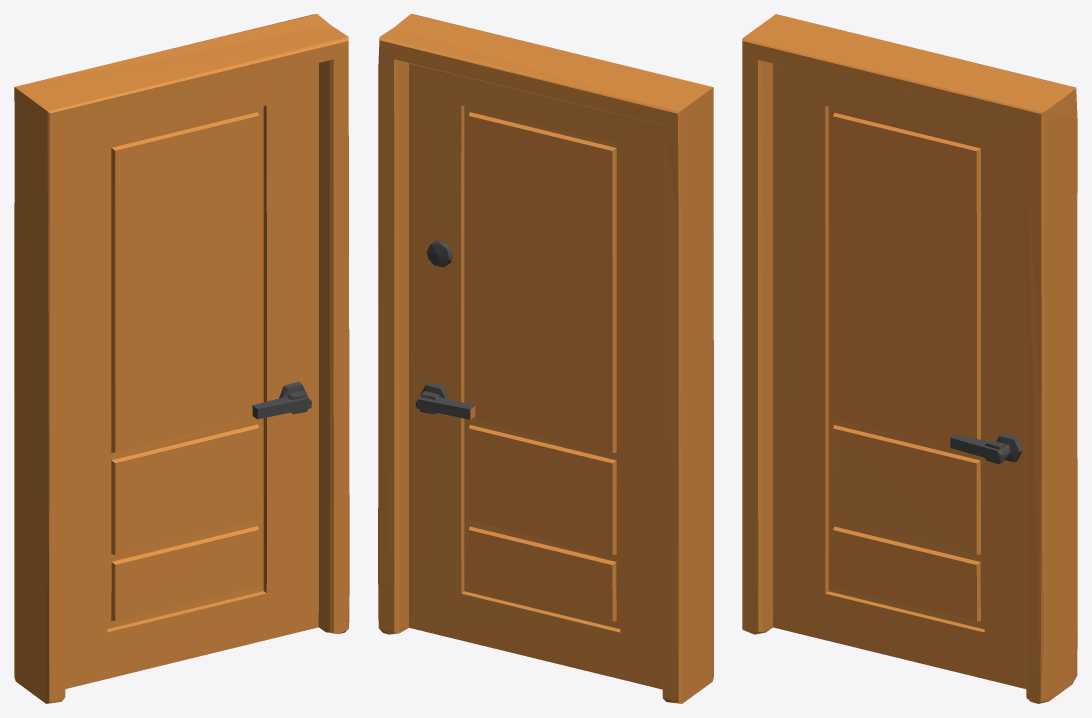
File: Puerta.fbx
3 renders of one model, left to right at view 1: azimuth 30°, elevation 25°; view 2: azimuth 150°, elevation 25°; view 3: azimuth 330°, elevation 25°, orthographic.
Parts seen in each view (by area): view 1: dff8d2154b19735cffffe9d4fa111566; view 2: dff8d2154b19735cffffe9d4fa111566; view 3: dff8d2154b19735cffffe9d4fa111566.
Part boxes in pixels (x1=…): dff8d2154b19735cffffe9d4fa111566: x1=14, y1=14, x2=349, y2=703; dff8d2154b19735cffffe9d4fa111566: x1=378, y1=14, x2=713, y2=703; dff8d2154b19735cffffe9d4fa111566: x1=742, y1=14, x2=1077, y2=703.
Size of the model in its own units: 1249 by 2342 by 280.
